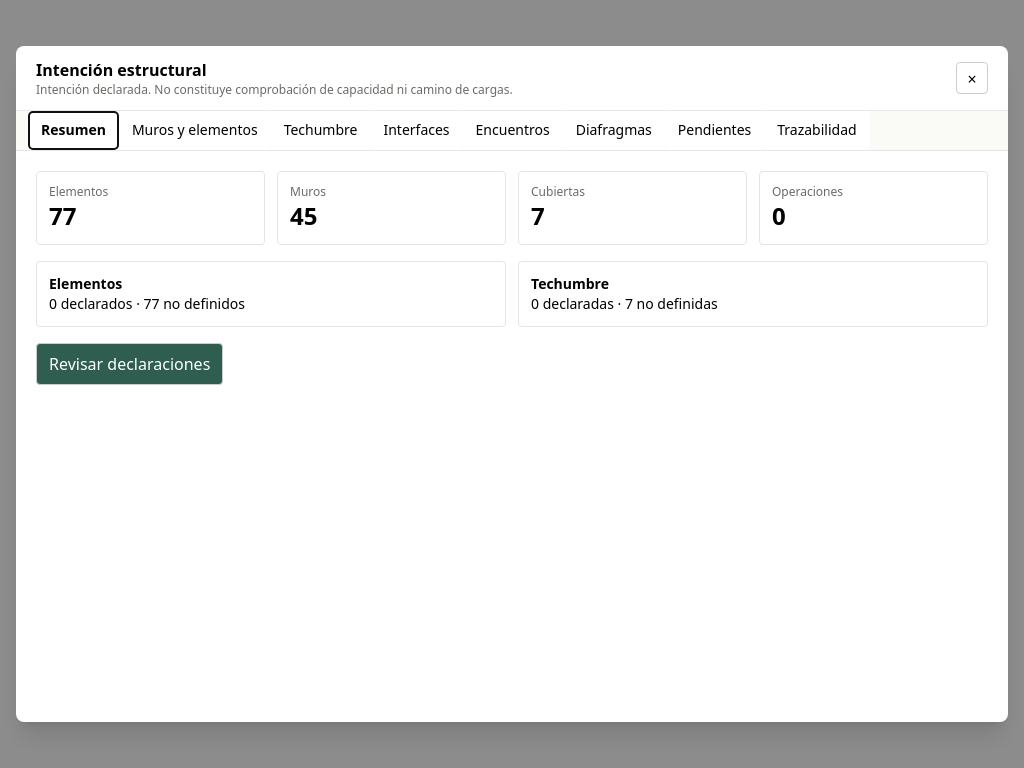
Test: SPEC-015-C: tabs se recorren por teclado y FX-008 lista siete cubiertas
Press End in the tab "Resumen", box [28,111,119,150]
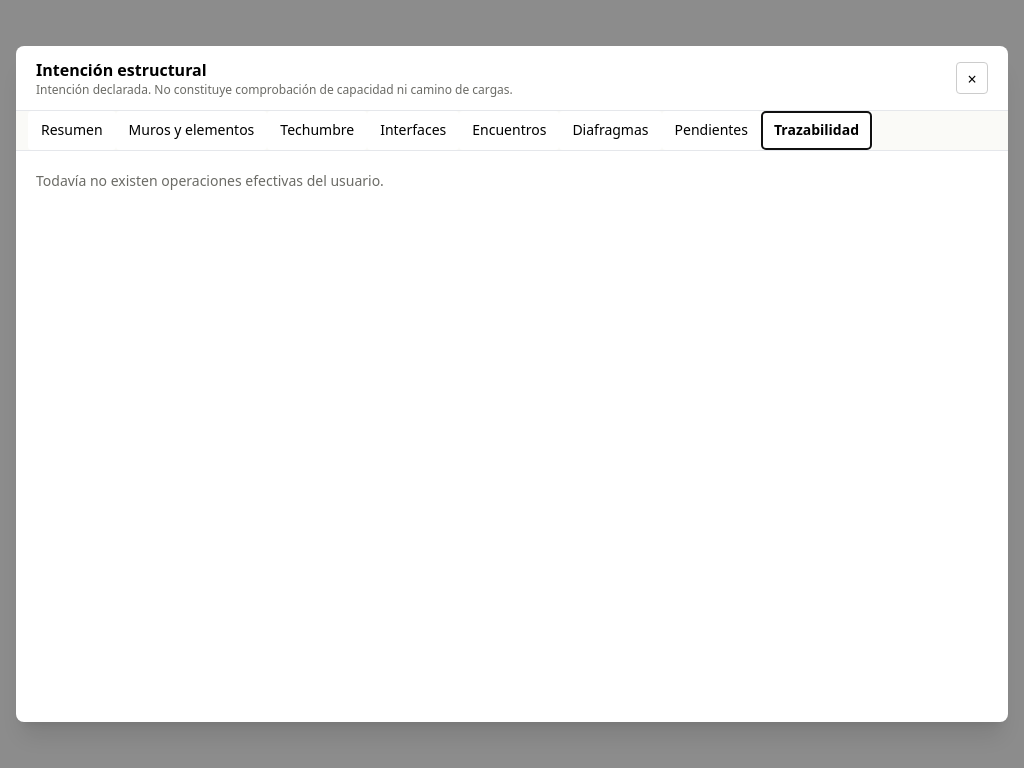
Press Home in the tab "Trazabilidad", box [761,111,872,150]
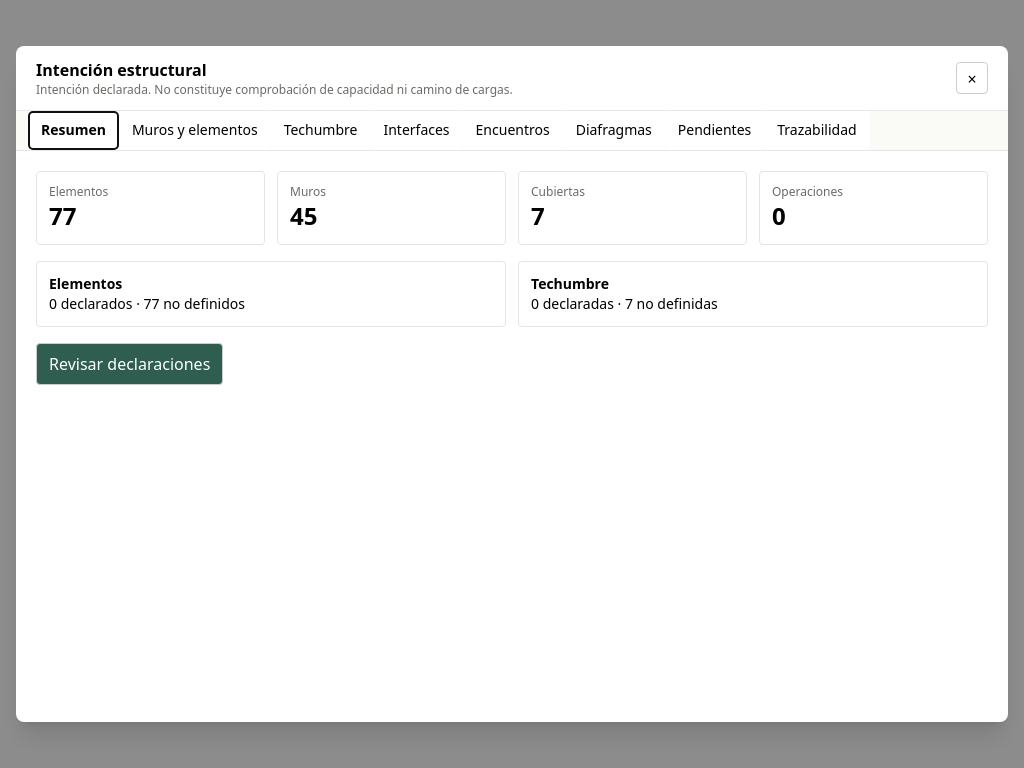
Click the tab "Techumbre".
click(320, 131)  # box [271,111,370,150]
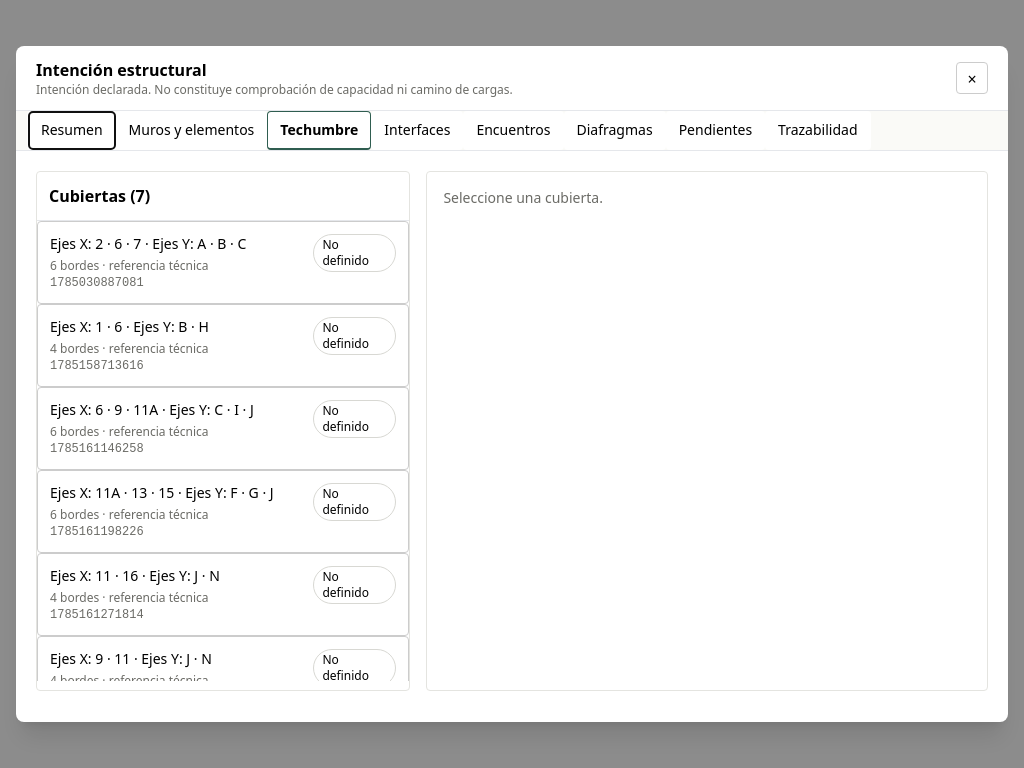
Result: the heading "Cubiertas (7)" is shown at [37,172,409,221]
